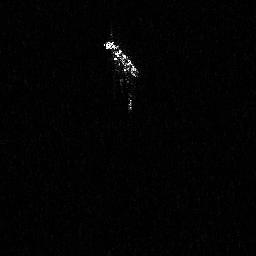ship: (102, 37, 144, 112)
